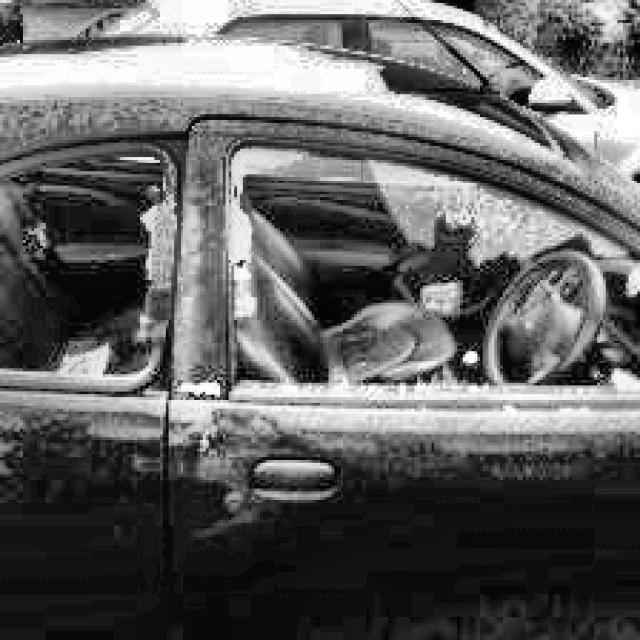glass_shatter: (239, 165, 638, 402), (19, 157, 168, 375)
